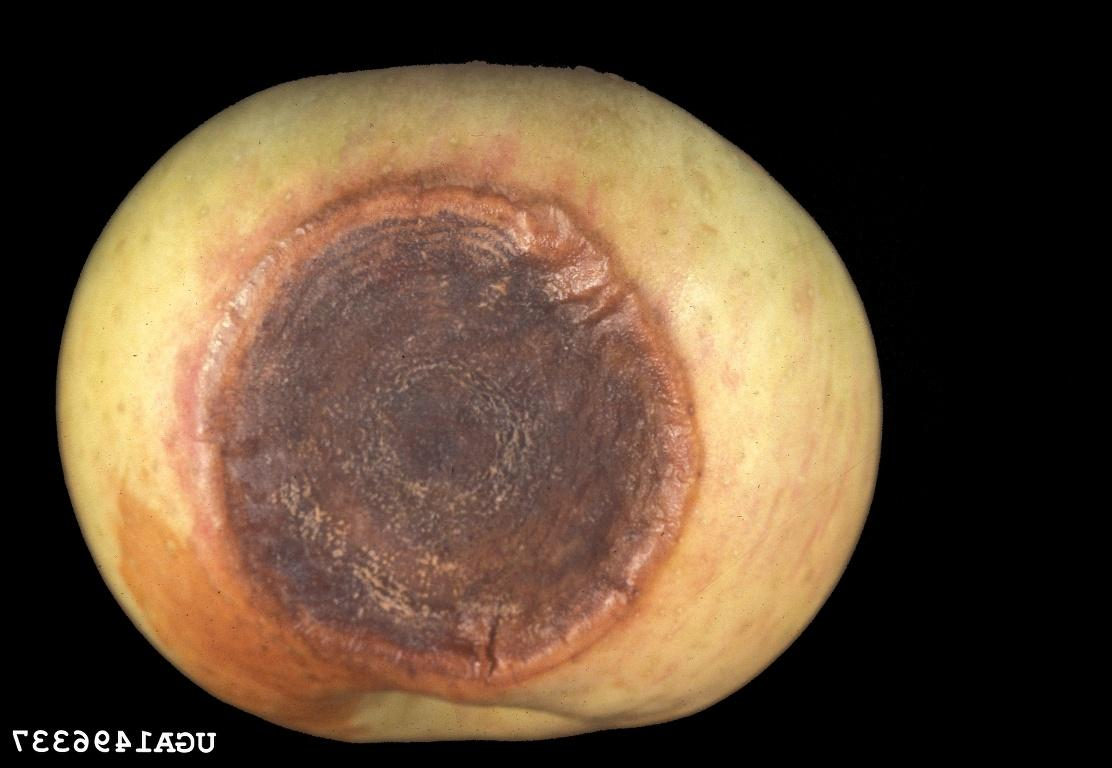rotten apple: (53, 62, 891, 747)
